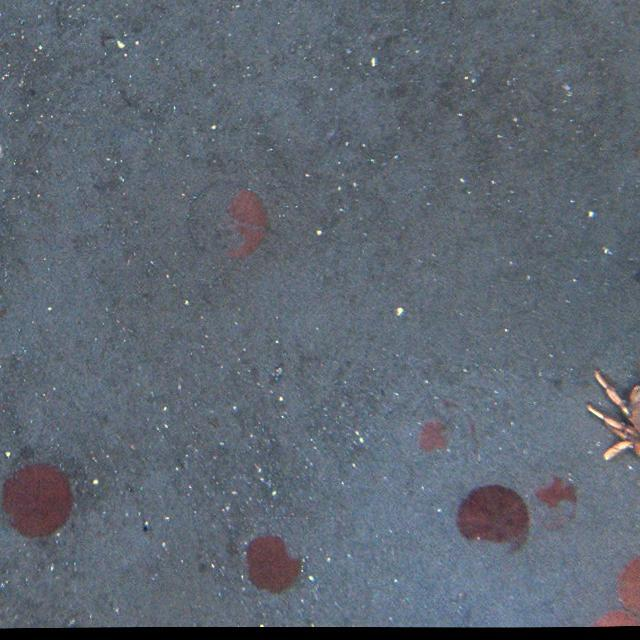crab: (582, 360, 640, 467)
